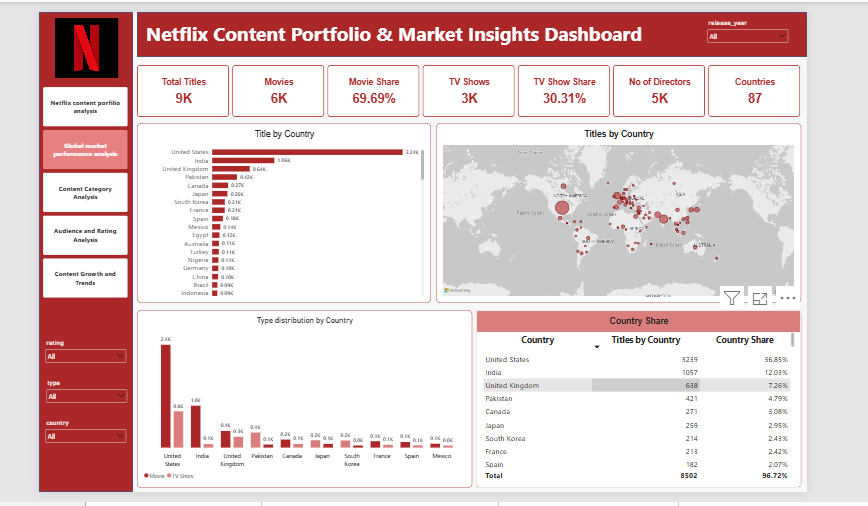

This screenshot's page, from the dashboard's own definition file:
{"tool":"powerbi","page":{"name":"Global market performance analysis","canvas":[1920,1200],"ordinal":1},"visuals":[{"type":"shape","box":[245,0,1675,112.5],"z":0},{"type":"shape","box":[0,0,235,1200],"z":1000},{"type":"cardVisual","fields":{"Data":["Netflix Titles.Total Titles","Netflix Titles.Movies","Netflix Titles.Movie Share","Netflix Titles.TV Shows","Netflix Titles.TV Show Share","Netflix Titles.No of Directors","Netflix Titles.Countries"]},"box":[245,132.5,1660,130],"z":2000},{"type":"barChart","title":"Title by Country","fields":{"Category":["Country bridge.country"],"Y":["Netflix Titles.Titles by Country"]},"box":[245,277.5,735,450],"z":3000},{"type":"map","title":"Titles by Country","fields":{"Category":["Country bridge.country"],"Size":["Netflix Titles.Titles by Country"]},"box":[992.5,277.5,912.5,450],"z":4000},{"type":"clusteredColumnChart","title":"Type distribution by Country","fields":{"Category":["Country bridge.country"],"Series":["Netflix Titles.type"],"Y":["Netflix Titles.Titles by Country"]},"box":[245,745,837.5,445],"z":5000},{"type":"tableEx","title":"Country Share","fields":{"Values":["Country bridge.country","Netflix Titles.Titles by Country","Country bridge.Country Share"]},"box":[1092.5,745,812.5,445],"z":6000},{"type":"textbox","box":[267.5,20,1367.5,75],"z":7000},{"type":"pageNavigator","box":[10,187.5,212.5,530],"z":8000},{"type":"image","box":[40,15,157.5,150],"z":9000},{"type":"slicer","fields":{"Values":["Netflix Titles.rating"]},"box":[10,817.5,212.5,72.5],"z":10000},{"type":"slicer","fields":{"Values":["Netflix Titles.type"]},"box":[12.5,917.5,212.5,72.5],"z":11000},{"type":"slicer","fields":{"Values":["Country bridge.country"]},"box":[10,1017.5,212.5,72.5],"z":12000},{"type":"slicer","fields":{"Values":["Netflix Titles.release_year"]},"box":[1665,17.5,212.5,72.5],"z":13000}]}

Visuals, with their boxes on the page's 1920x1200 design canvas (x1, y1, x2, y2). These are canvas units, not pixel positions in the 868x506 screenshot, which may show the page scaled, cropped or inside an application window:
shape: locate(245, 0, 1920, 112)
shape: locate(0, 0, 235, 1200)
cardVisual - Netflix Titles.Total Titles x Netflix Titles.Movies: locate(245, 132, 1905, 262)
"Title by Country" barChart: locate(245, 278, 980, 728)
"Titles by Country" map: locate(992, 278, 1905, 728)
"Type distribution by Country" clusteredColumnChart: locate(245, 745, 1082, 1190)
"Country Share" tableEx: locate(1092, 745, 1905, 1190)
textbox: locate(268, 20, 1635, 95)
pageNavigator: locate(10, 188, 222, 718)
image: locate(40, 15, 198, 165)
slicer - Netflix Titles.rating: locate(10, 818, 222, 890)
slicer - Netflix Titles.type: locate(12, 918, 225, 990)
slicer - Country bridge.country: locate(10, 1018, 222, 1090)
slicer - Netflix Titles.release_year: locate(1665, 18, 1878, 90)
